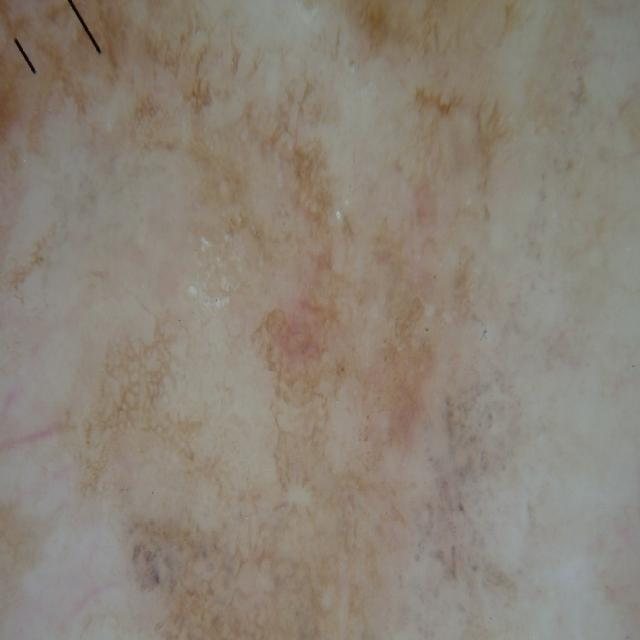Melanoma: (77, 172, 484, 640)
